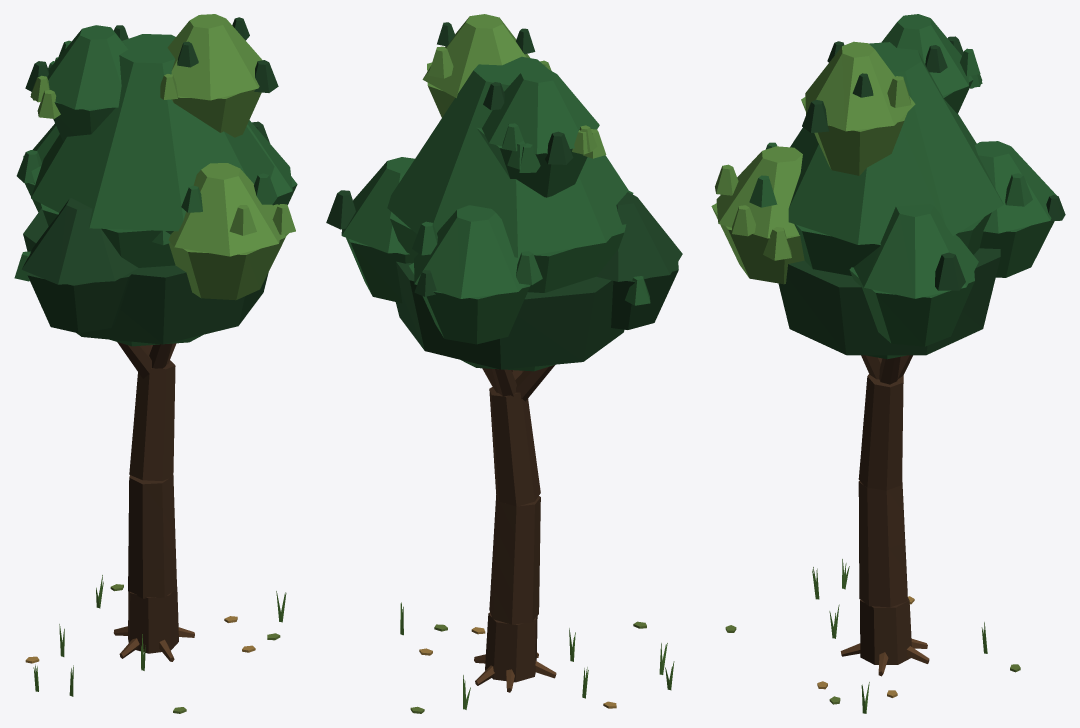
File: tree_maple.obj
3 renders of one model, left to right at view 1: azimuth 30°, elevation 25°; view 2: azimuth 150°, elevation 25°; view 3: azimuth 270°, elevation 25°, orthographic.
Parts seen in each view (by area): view 1: Crown, Trunk, Crown.Under, Clump, Branch, Trunk.Stump, Grass, Root, Litter; view 2: Crown, Trunk, Crown.Under, Clump, Branch, Trunk.Stump, Grass, Root; view 3: Crown, Trunk, Crown.Under, Clump, Trunk.Stump, Branch, Grass, Root.
Boxes of the visible parts, x1,y1,x2,y2 form: Crown: [21, 14, 297, 346]; Trunk: [128, 360, 178, 629]; Crown.Under: [23, 208, 268, 344]; Clump: [14, 17, 295, 281]; Branch: [117, 342, 176, 378]; Trunk.Stump: [128, 617, 178, 653]; Grass: [33, 575, 286, 696]; Root: [113, 626, 194, 661]; Litter: [25, 584, 280, 713]; Crown: [341, 14, 682, 371]; Trunk: [486, 387, 540, 657]; Crown.Under: [395, 261, 624, 369]; Clump: [326, 22, 650, 305]; Branch: [482, 364, 555, 401]; Trunk.Stump: [485, 644, 536, 682]; Grass: [400, 602, 674, 709]; Root: [474, 652, 556, 692]; Crown: [711, 14, 1056, 359]; Trunk: [858, 374, 911, 640]; Crown.Under: [778, 248, 1000, 355]; Clump: [715, 36, 1065, 290]; Trunk.Stump: [860, 633, 911, 664]; Branch: [861, 355, 912, 384]; Grass: [812, 559, 987, 713]; Root: [840, 639, 929, 676].
Size of the model in its own units: 6.5 by 13.06 by 6.67.
